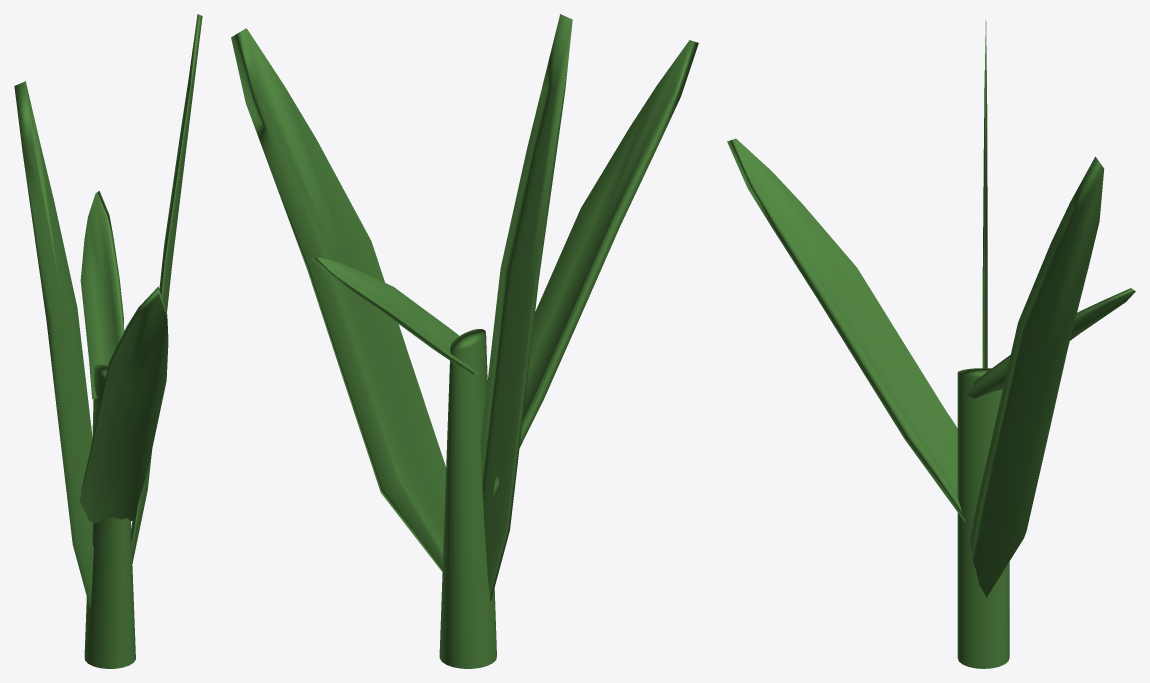
File: Plant3.fbx
3 renders of one model, left to right at view 1: azimuth 30°, elevation 25°; view 2: azimuth 150°, elevation 25°; view 3: azimuth 270°, elevation 25°, orthographic. The views are drawn at different scales.
Parts seen in each view (by area): view 1: polySurface15; view 2: polySurface15; view 3: polySurface15.
Part boxes in pixels (bbox=[...]): polySurface15: bbox=[14, 14, 202, 668]; polySurface15: bbox=[231, 14, 698, 668]; polySurface15: bbox=[727, 20, 1135, 668].
Bounding box in the file's own units: 1.89 × 4.37 × 2.7.
